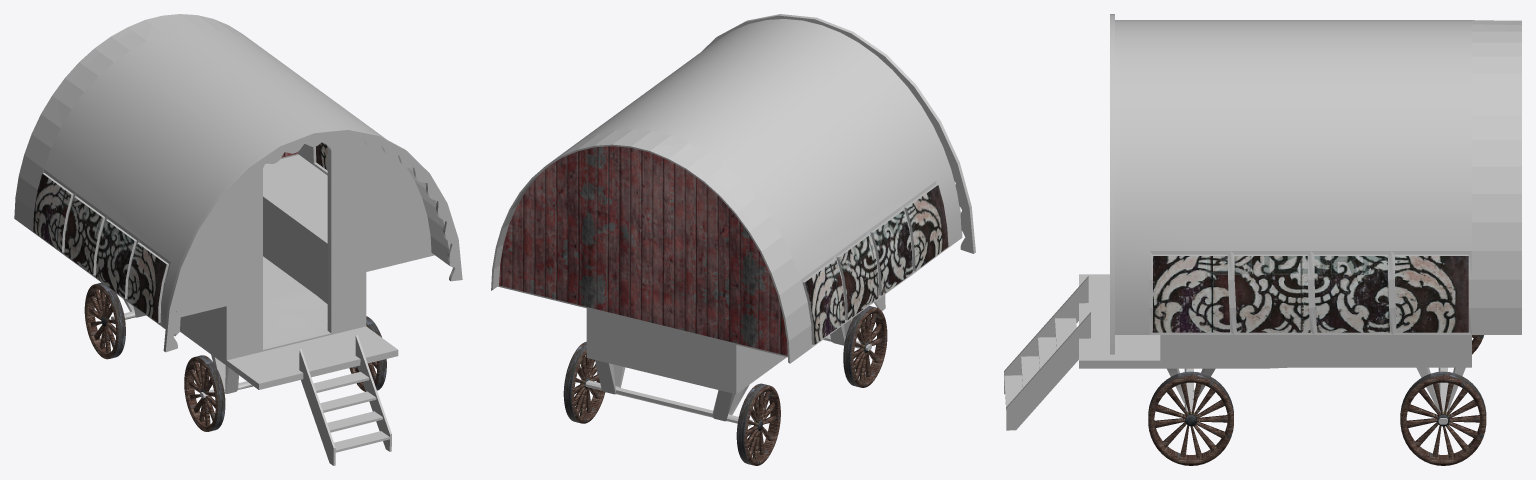
File: Caravan_02.FBX
3 views of the same model, side by side, from view 1: azimuth 30°, elevation 25°; view 2: azimuth 150°, elevation 25°; view 3: azimuth 270°, elevation 25° (orthographic). The views are drawn at different scales.
Parts seen in each view (by area): view 1: 1, Star002, Tube003, StraightStair001, Tube002; view 2: 1, Tube003, Star002, Tube002; view 3: 1, Tube002, StraightStair001, Star002.
Part boxes in pixels (x1,y1,x2,y2): 1: (14,14,453,398); Star002: (163,128,462,352); Tube003: (84,282,225,431); StraightStair001: (299,335,391,465); Tube002: (349,316,386,391); 1: (491,19,962,426); Tube003: (736,306,887,465); Star002: (702,14,975,253); Tube002: (563,341,605,423); 1: (1079,20,1521,424); Tube002: (1148,371,1486,465); StraightStair001: (1004,276,1090,430); Star002: (1110,14,1114,354).
Bounding box in the file's own units: 4.31 × 4.17 × 5.13.
